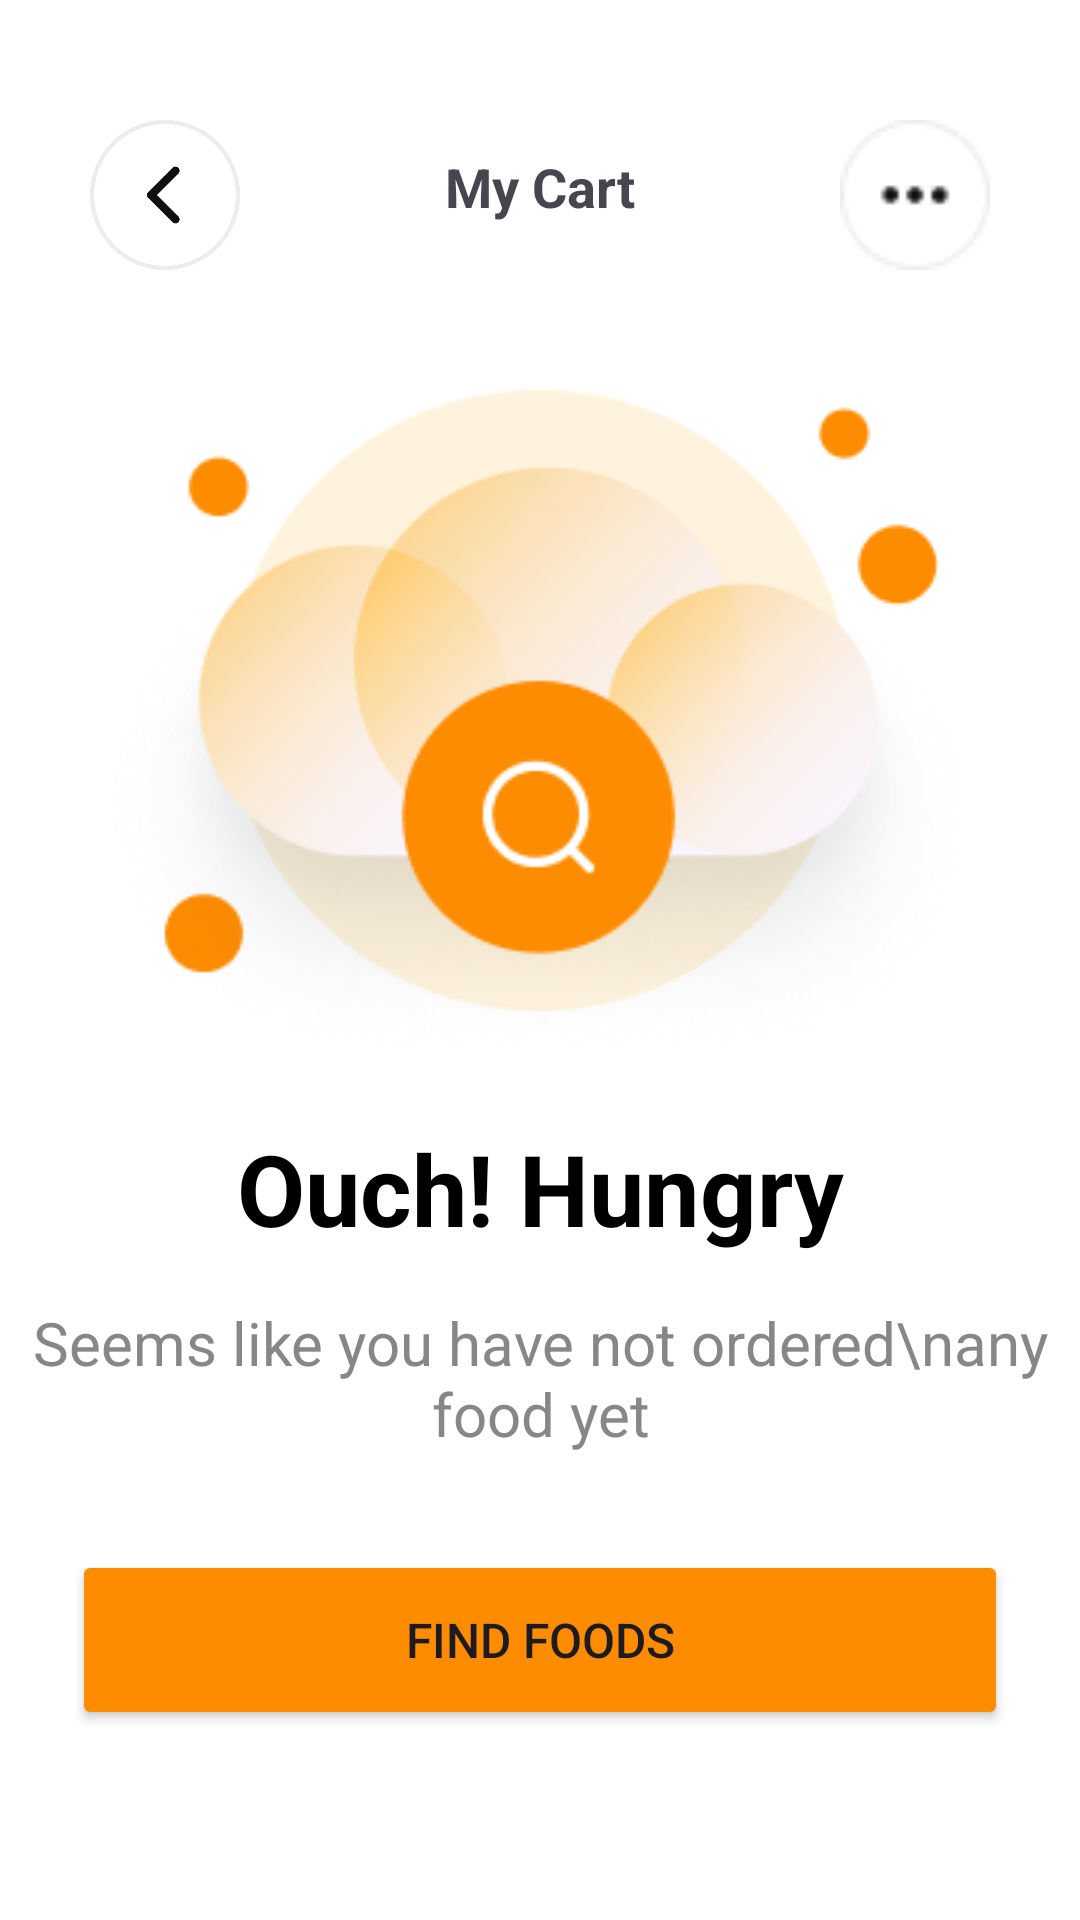

Screen size 1080px x 1920px. Icon name, then its box in pixels as (x1, y1, x2, y2):
back: (147, 166, 180, 224)
